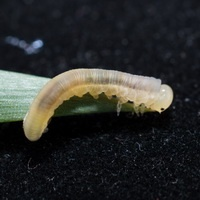insect: (23, 69, 172, 140)
